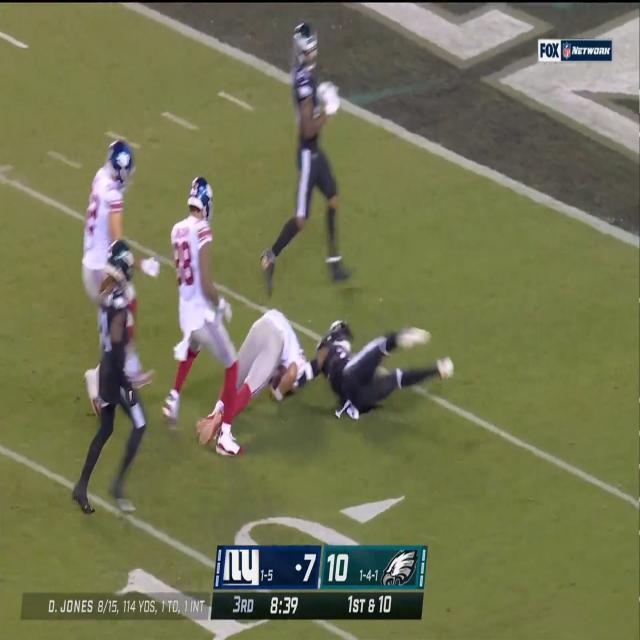players: (254, 27, 359, 300), (160, 160, 240, 456), (78, 239, 152, 529), (199, 302, 314, 452), (316, 299, 448, 426), (83, 116, 136, 425)
